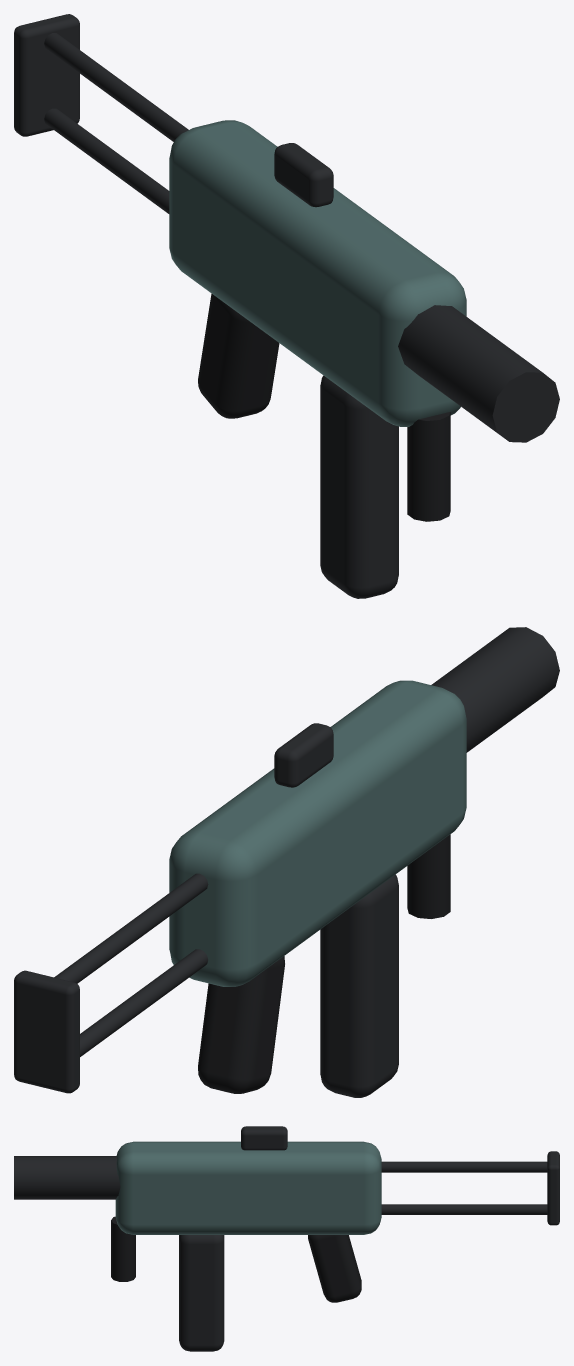
The model's file is sparrow.glb.
The picture shows the model from 3 angles, top to bottom: view 1: azimuth 30°, elevation 25°; view 2: azimuth 150°, elevation 25°; view 3: azimuth 270°, elevation 25°; orthographic projection. The views are drawn at different scales.
Visible parts, largest first — view 1: Sparrow; view 2: Sparrow; view 3: Sparrow.
Part boxes in pixels (box(x1,y1,x2,y2)): Sparrow: box(14, 14, 559, 598); Sparrow: box(14, 627, 559, 1097); Sparrow: box(14, 1126, 559, 1351).
Size of the model in its own units: 0.07 by 0.31 by 0.698.
